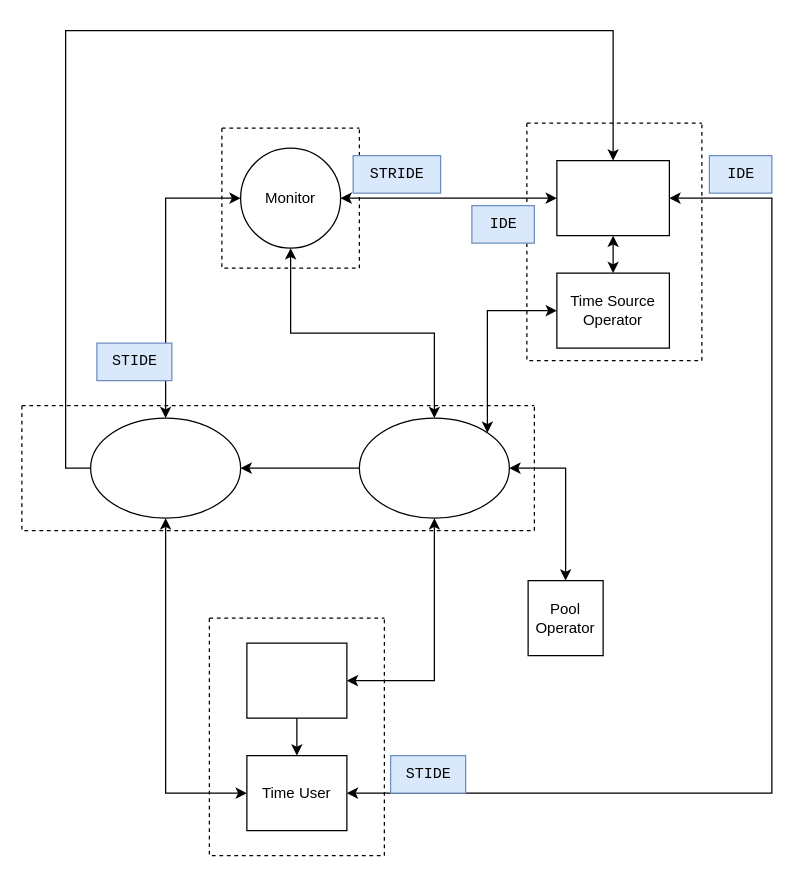
The diagram is 805 pixels wide and 878 high, and some of its shapes have lost their labels. The shapes that lost their labels are listed below. From the top down, each one's centre as x and y in pixels, then its label:
the point at 612,197: Time Source
the point at 165,467: KELB
the point at 433,467: Management
the point at 296,680: Time User Operator
